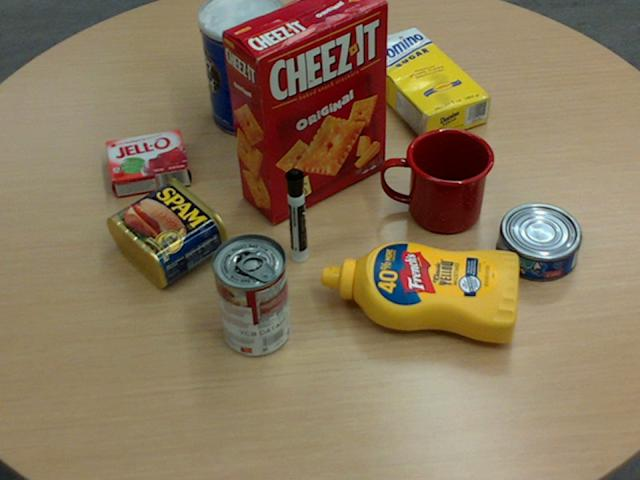cracker_box: (221, 0, 388, 223)
gelatin_box: (105, 128, 189, 195)
large_marker: (284, 168, 309, 263)
master_chef_can: (197, 0, 291, 137)
mug: (381, 126, 494, 232)
mustard_bottle: (320, 242, 519, 341)
potted_meat_can: (106, 176, 229, 287)
sugar_box: (355, 26, 491, 142)
tomato_soup_can: (210, 232, 289, 355)
tuna_fish_can: (496, 202, 581, 280)
